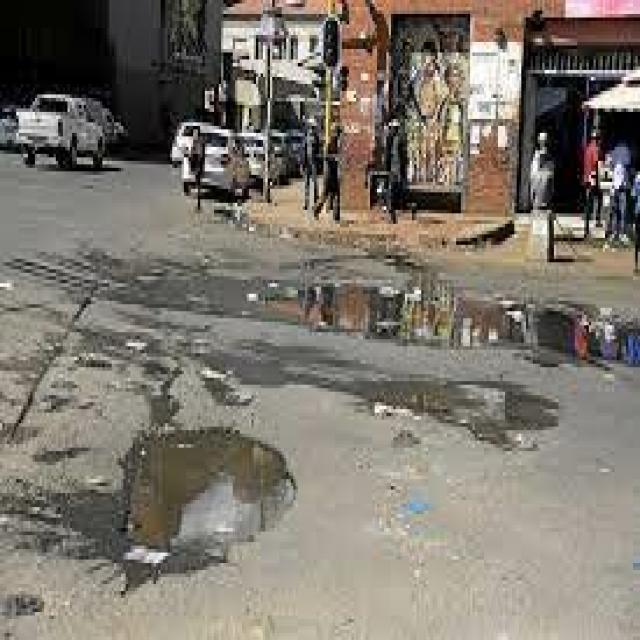pothole: (193, 234, 640, 451), (105, 409, 326, 633)
